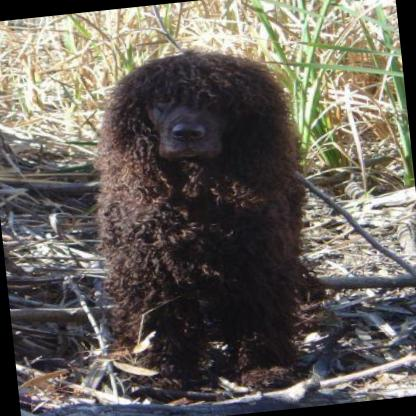Irish_water_spaniel: (67, 34, 332, 410)
